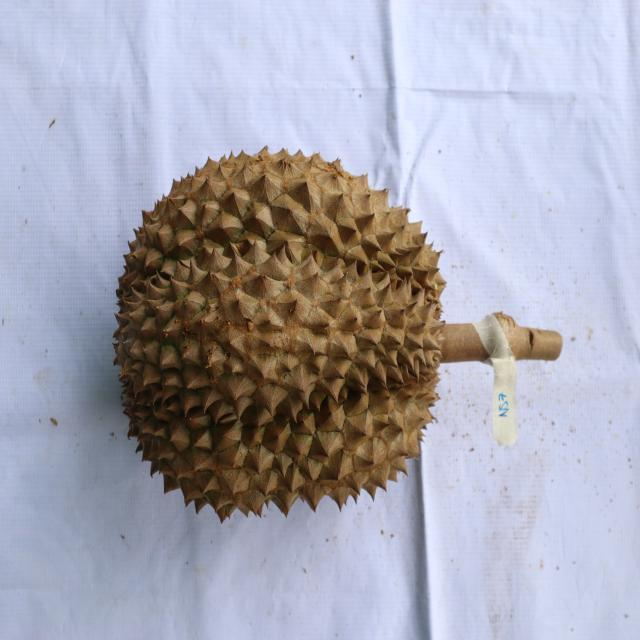mature: (111, 144, 445, 521)
